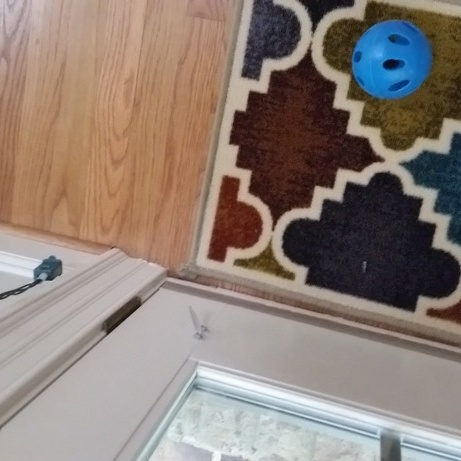blueball: (347, 17, 436, 103)
